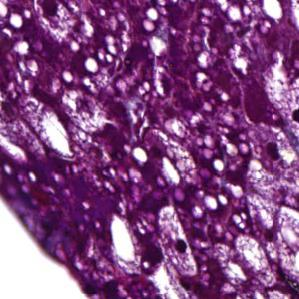ballooning: (156, 205, 199, 278)
